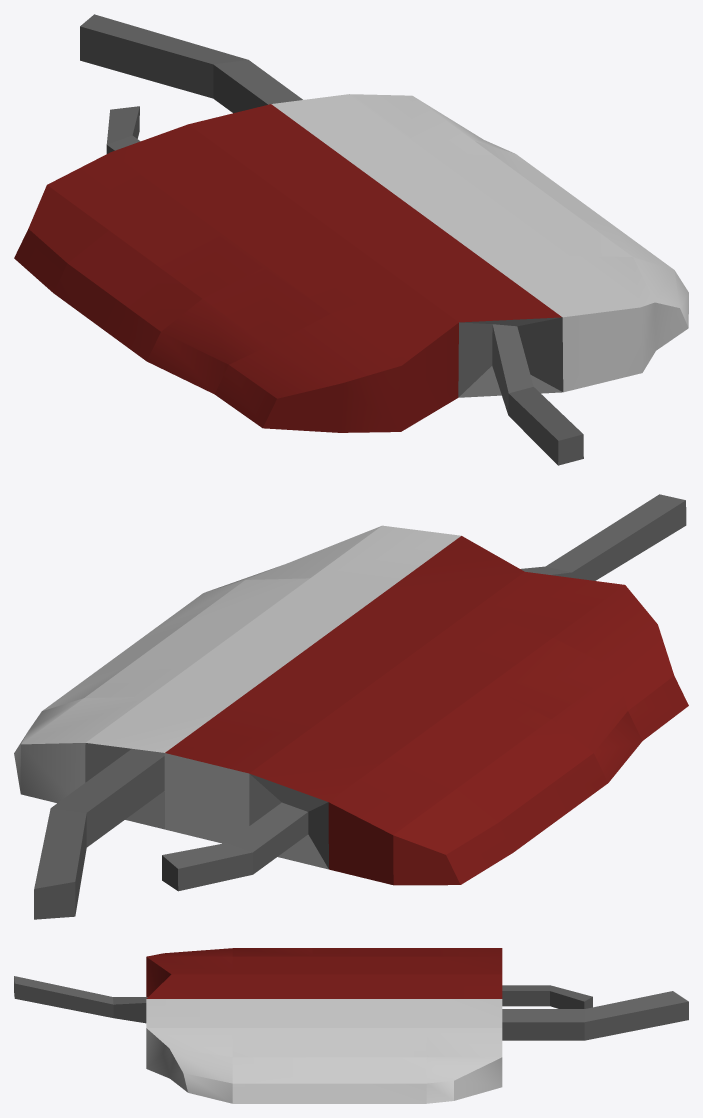
The model's file is PiezaAvion_Texturizada.fbx.
3 renders of one model, top to bottom at view 1: azimuth 30°, elevation 25°; view 2: azimuth 150°, elevation 25°; view 3: azimuth 270°, elevation 25°, orthographic. The views are drawn at different scales.
Parts seen in each view (by area): view 1: Cylinder001; view 2: Cylinder001; view 3: Cylinder001.
Boxes of the visible parts, x1,y1,x2,y2 form: Cylinder001: (14, 14, 688, 465); Cylinder001: (14, 494, 688, 919); Cylinder001: (14, 948, 688, 1103).
Bounding box in the file's own units: 56.97 × 8.58 × 114.
